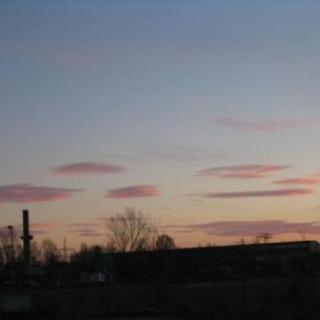Altocumulus: (0, 0, 320, 268)
